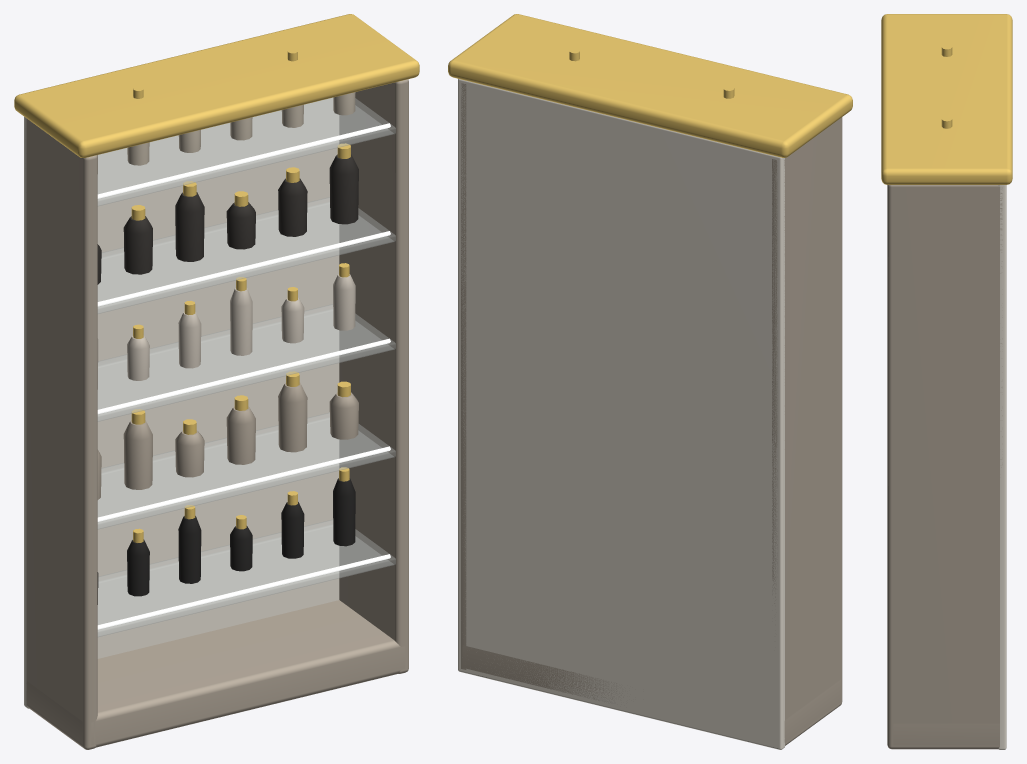
Rendered from product_shelf_glass.glb.
3 renders of one model, left to right at view 1: azimuth 30°, elevation 25°; view 2: azimuth 150°, elevation 25°; view 3: azimuth 270°, elevation 25°, orthographic. The views are drawn at different scales.
Visible parts, largest first — view 1: product_shelf_glass; view 2: product_shelf_glass; view 3: product_shelf_glass.
Boxes of the visible parts, left/top/right/bottom form: product_shelf_glass: left=14, top=14, right=419, bottom=749; product_shelf_glass: left=448, top=14, right=852, bottom=749; product_shelf_glass: left=881, top=14, right=1012, bottom=749.
Size of the model in its own units: 1.26 by 2.19 by 0.44.
